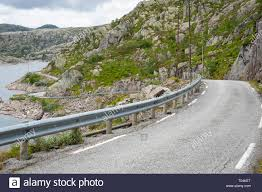strada: (32, 78, 262, 174)
